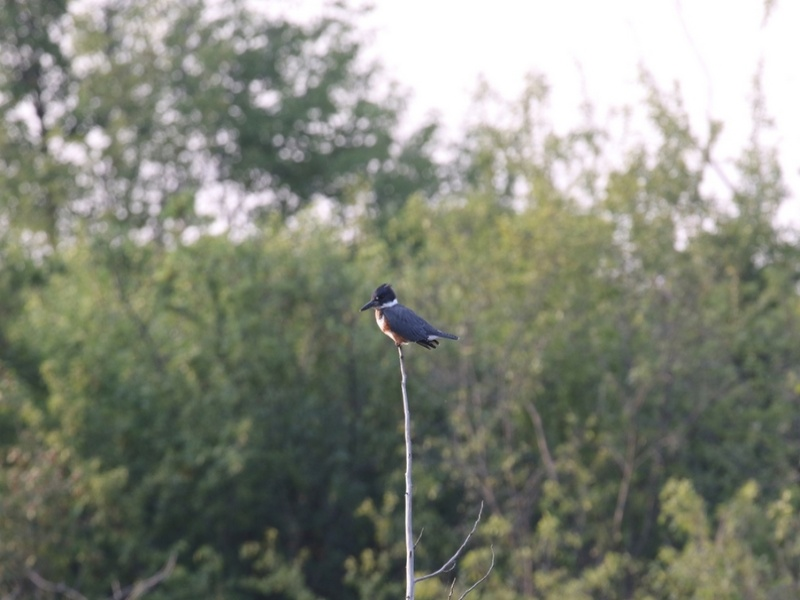kingfisher: (362, 280, 462, 354)
